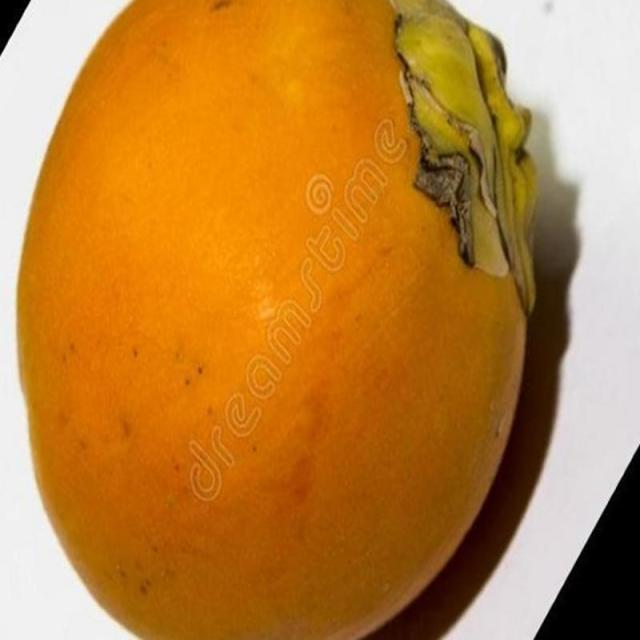good: (13, 0, 539, 639)
